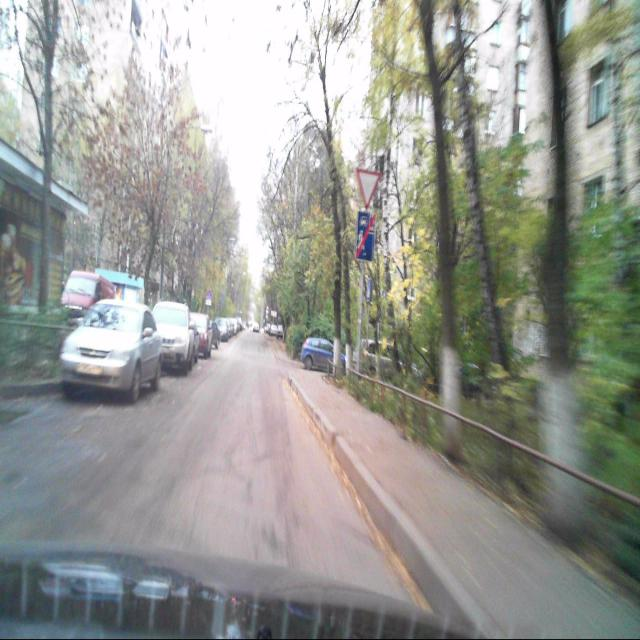road sign: (356, 167, 380, 211), (356, 212, 374, 260)
